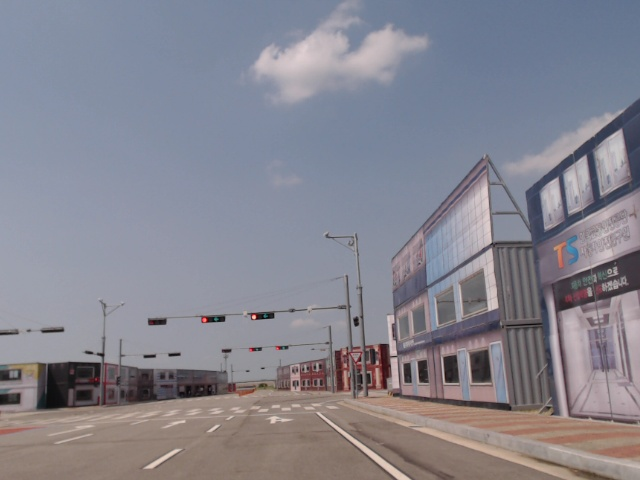left_green_4: (252, 313, 274, 320), (201, 317, 225, 322)
